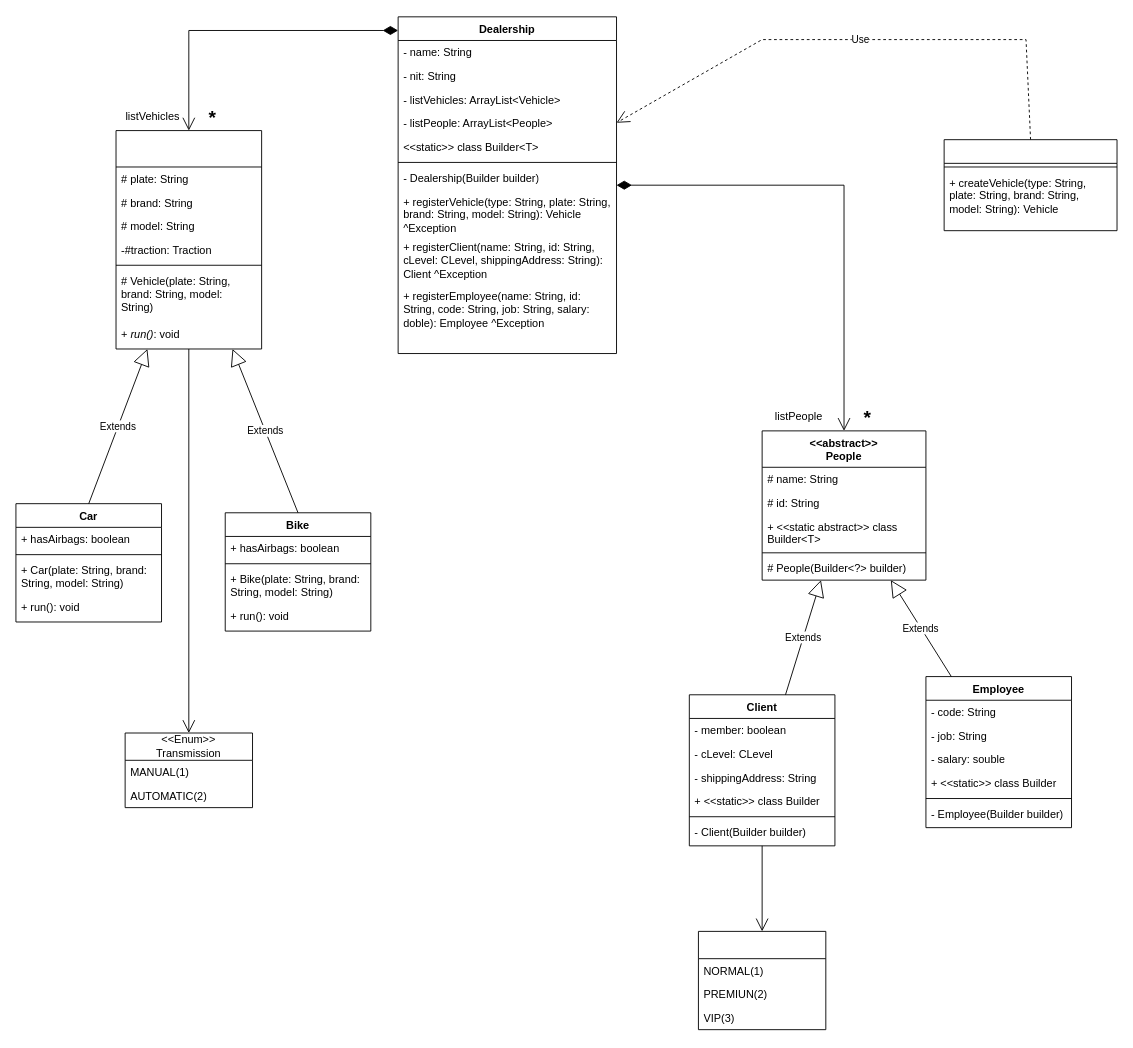
This 1133x1048 diagram has some shape labels left out. Here are the shapes that lost their labels. From the top down, the box of each, then its label:
(943, 139, 1117, 231): VehicleFactory
(115, 130, 262, 349): <<abstract >> Vehicle
(698, 930, 826, 1030): <<Enum>> CLevel
